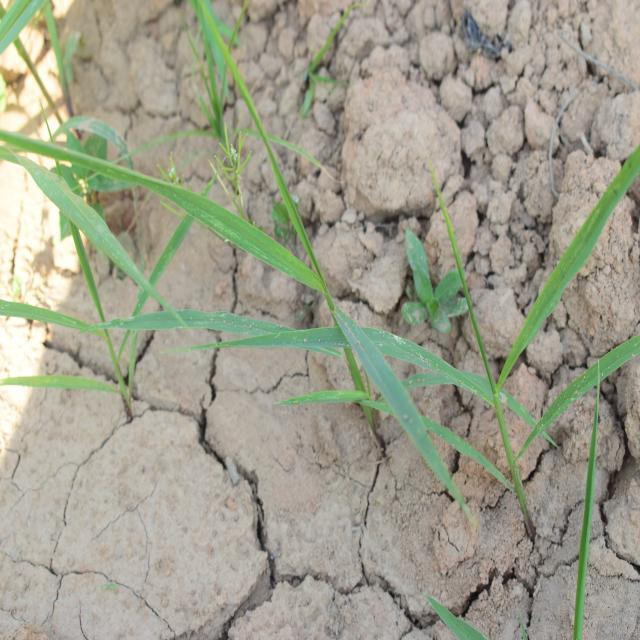green_foxtail: (171, 48, 398, 407), (410, 158, 615, 489)
